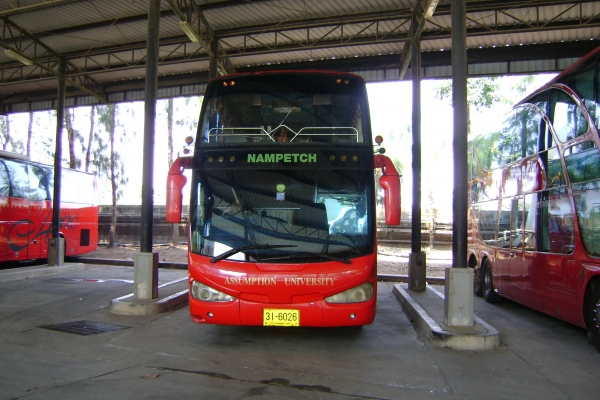bus: (188, 71, 378, 330)
